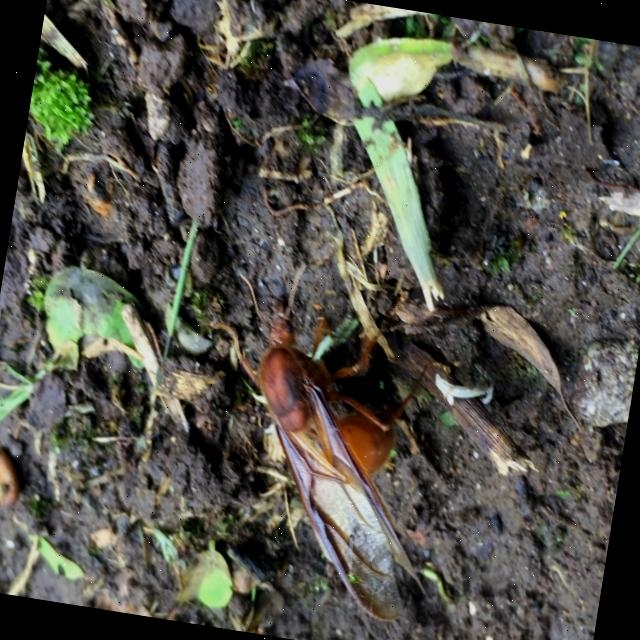Alive-Male-Alate: (172, 250, 474, 628)
